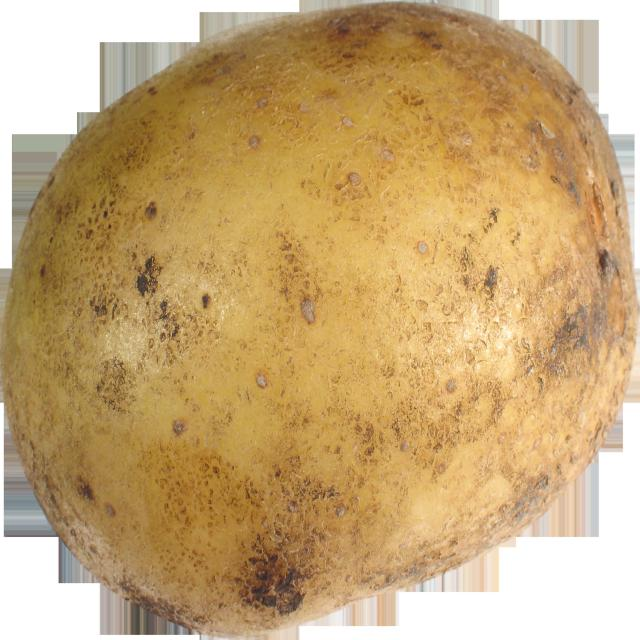potato: (1, 1, 640, 636)
